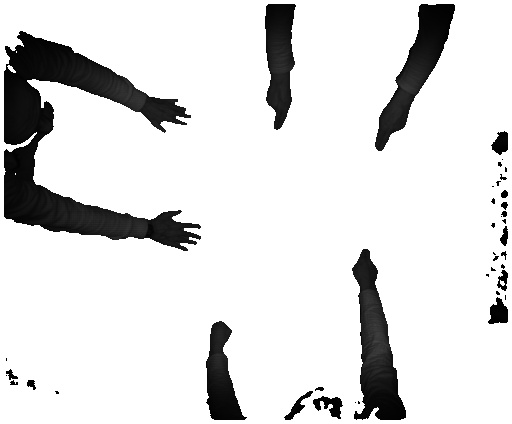fist: (208, 320, 231, 350)
hand: (155, 208, 207, 255), (368, 104, 412, 151), (148, 97, 191, 135), (264, 83, 295, 135), (352, 248, 383, 285)
